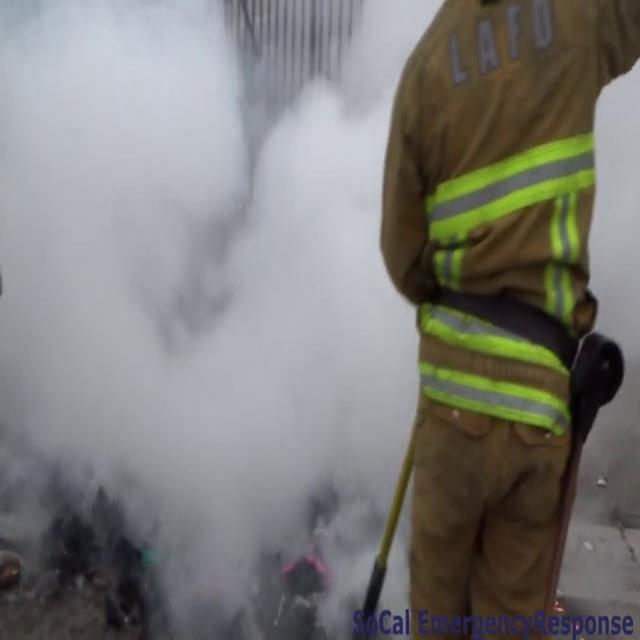Smoke: (0, 0, 448, 632)
